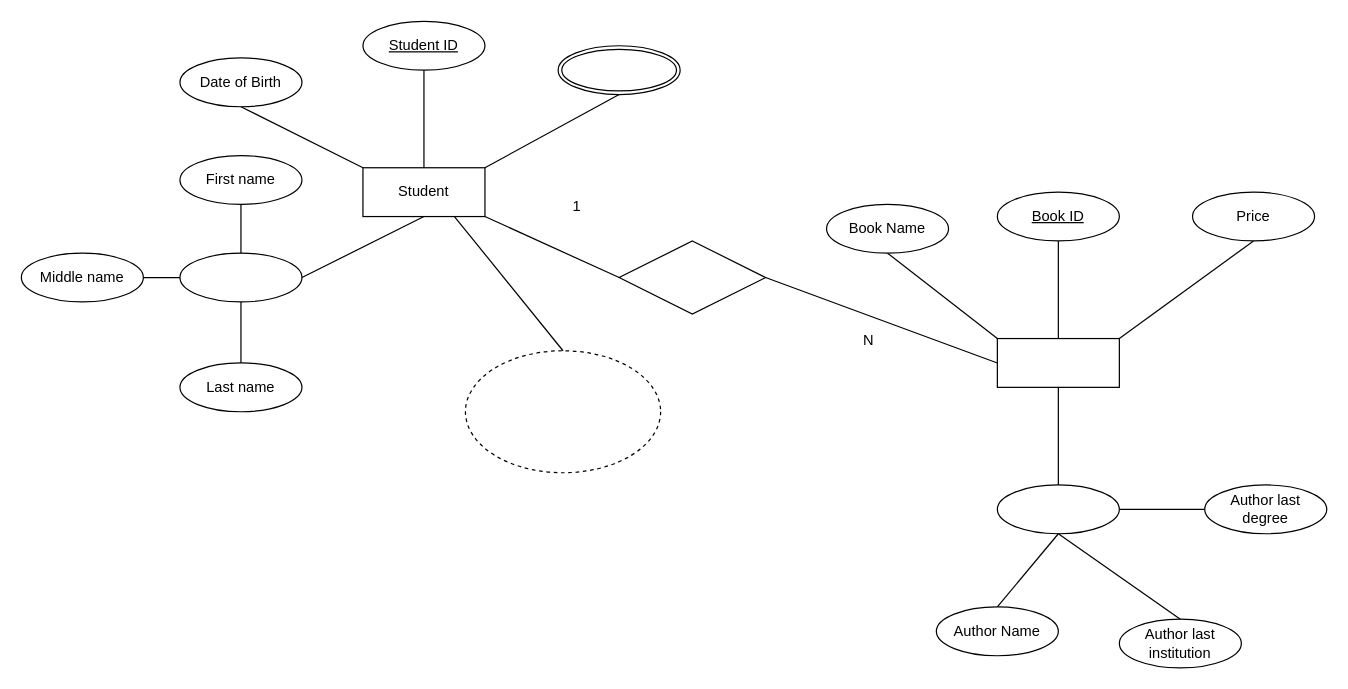
The diagram is 1348 pixels wide and 689 high, and some of its shapes have lost their labels. The shapes that lost their labels are listed below. From the top down, each one's centre as x and y in pixels, then its label:
point (618, 70): Phone Number
point (240, 277): Student Name
point (692, 277): Borrow
point (1057, 362): Book
point (562, 411): Age
point (1057, 509): Author Info
